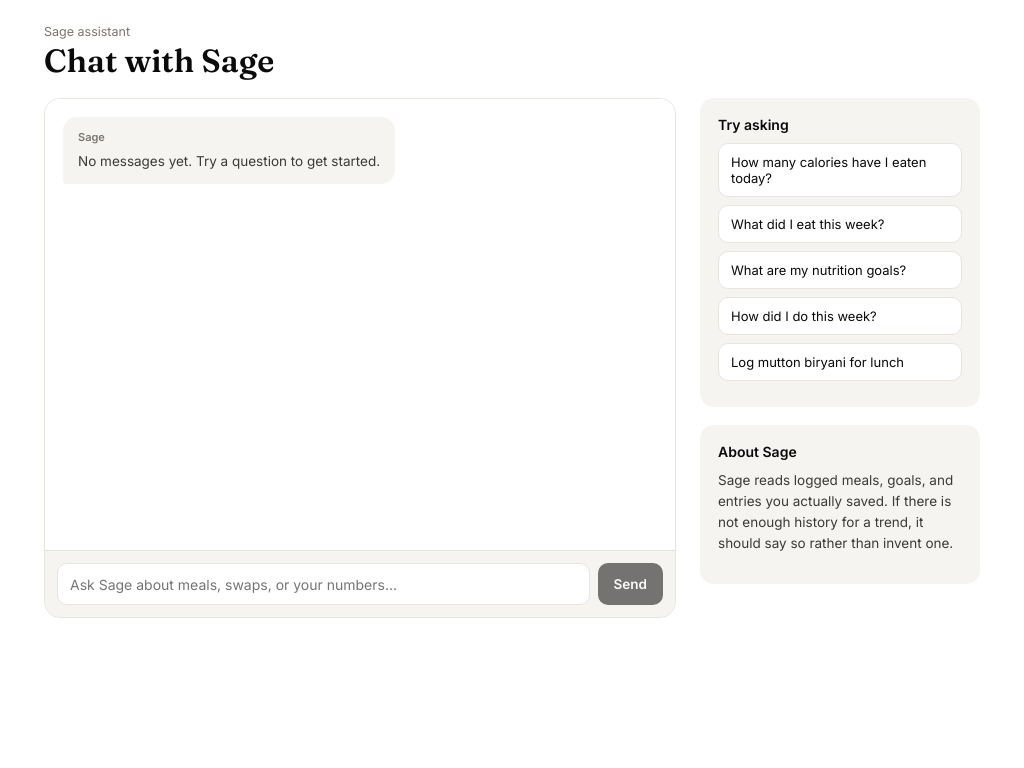
Test case: ChatPage › sends a message and shows the assistant response
In the field named "Message": [323, 584] box [57,563,590,605], type "How many calories have I eaten today?"
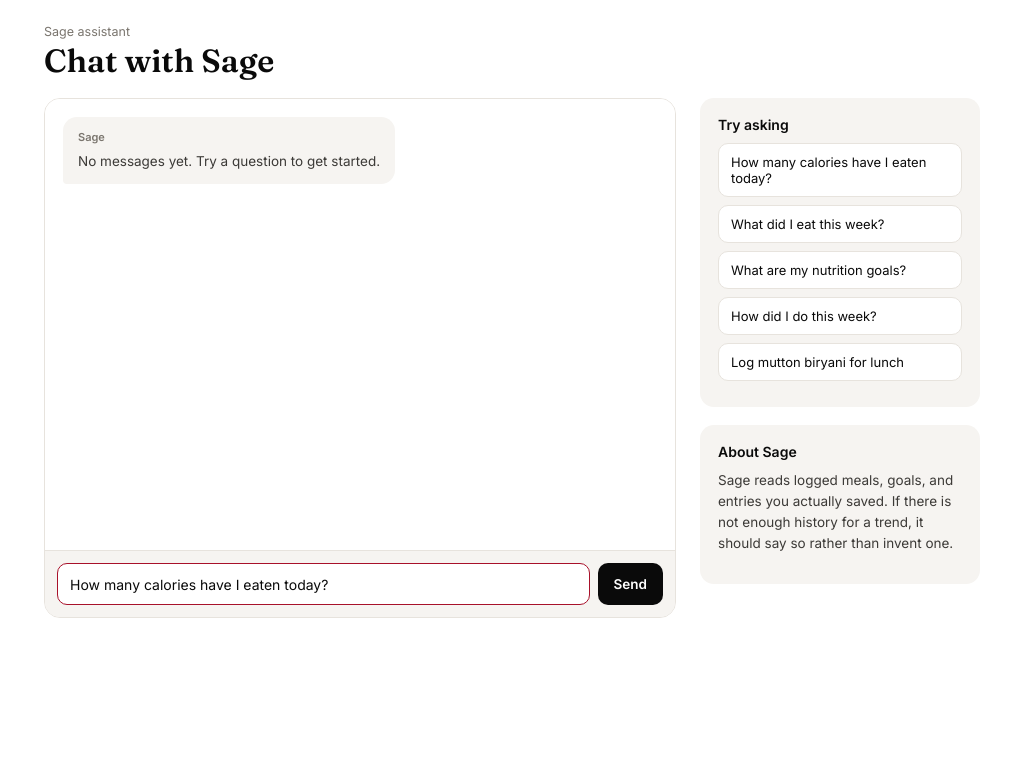
Click the button "Send": [630, 584] box [598,563,663,605]
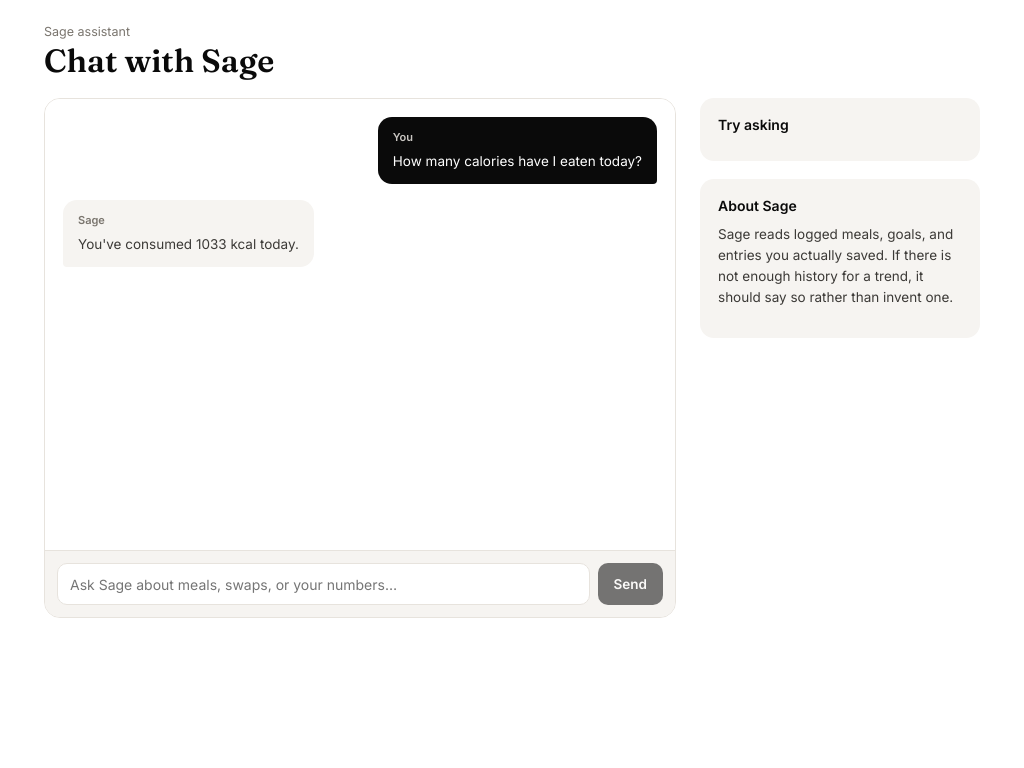
Check: the text "You've consumed 1033 kcal today." is shown, box [78,236,299,252]
Check: the text "How many calories have I eaten today?" is shown, box [393,153,642,169]
